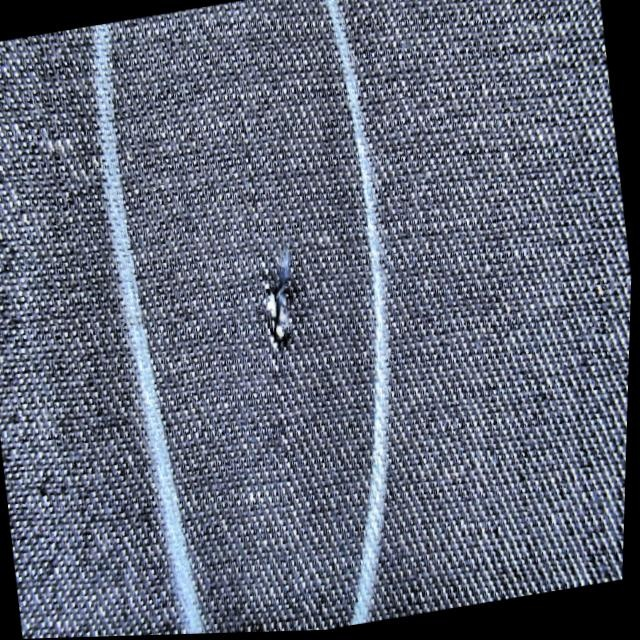Hole: (241, 237, 316, 373)
